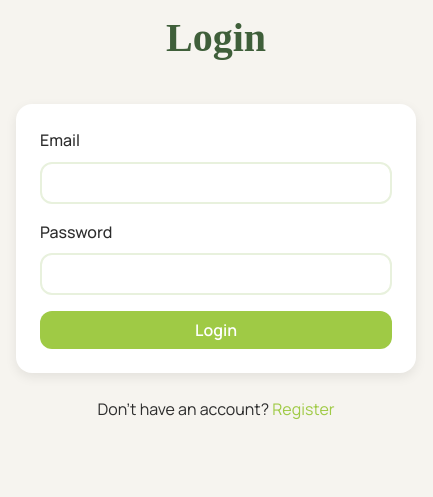
it: Login Page › shows validation error when email is empty
The width and height of the screenshot is (433, 497).
Click the button "Login": (216, 330) top-left (40, 311), bottom-right (392, 349)
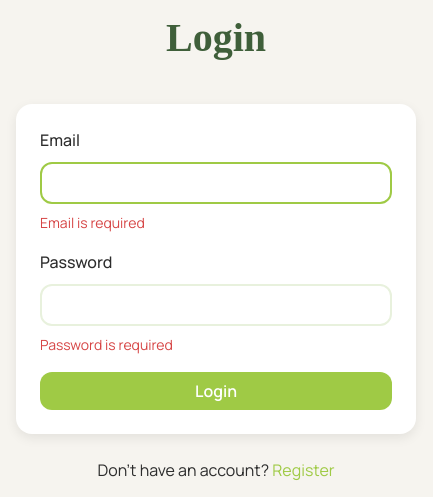
Now the text "Email is required" is shown, box top-left (40, 213), bottom-right (145, 232)
